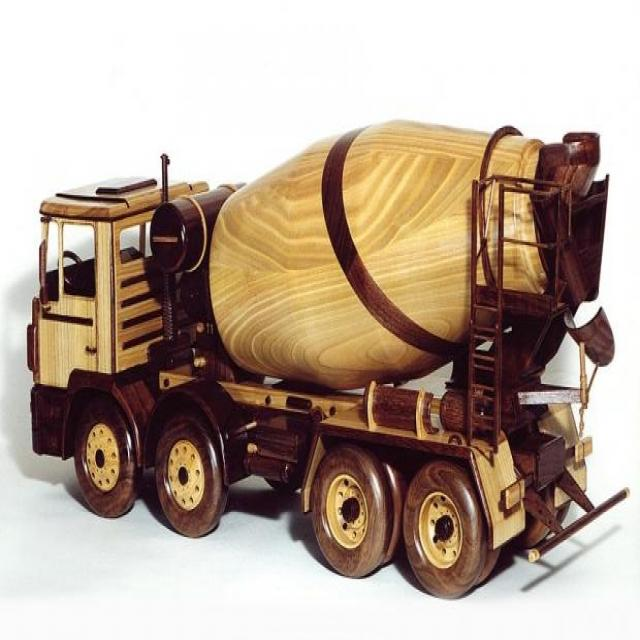Mixer Truck: (28, 120, 629, 600)
